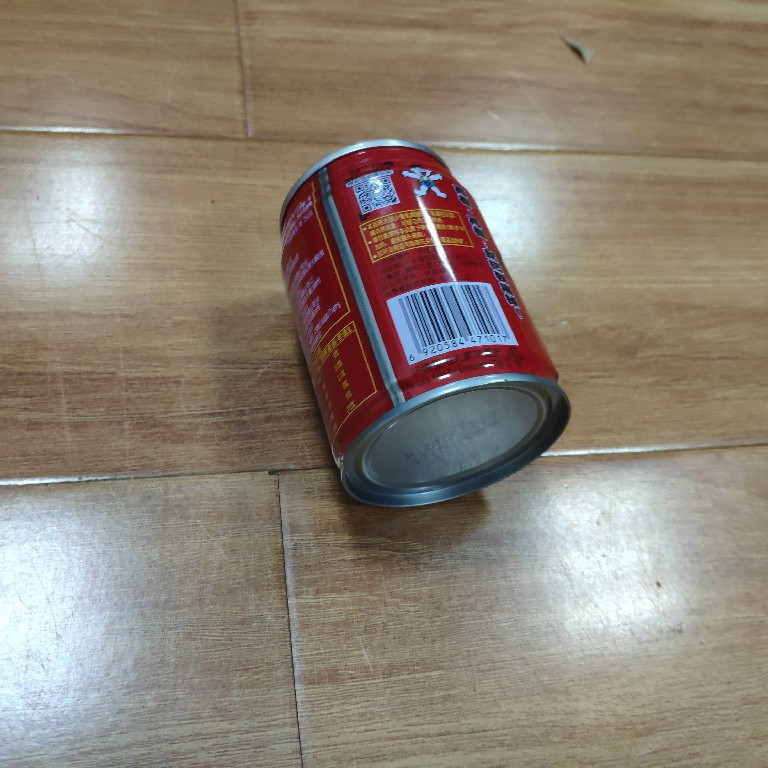can: (275, 137, 576, 512)
